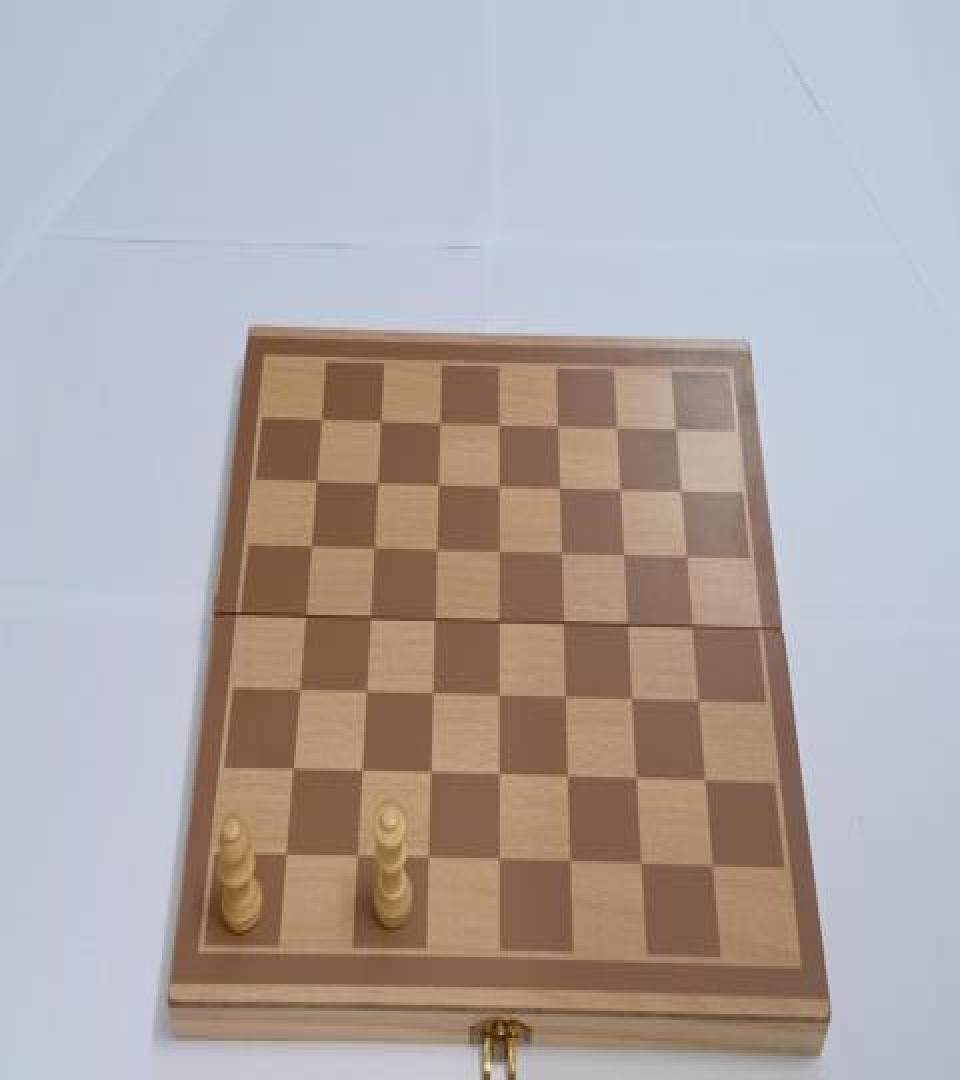xcorner: (308, 472, 326, 500), (372, 412, 390, 440), (352, 760, 370, 788), (550, 478, 568, 506), (313, 411, 331, 438), (302, 537, 320, 564), (296, 606, 314, 633), (283, 759, 301, 786), (276, 843, 294, 870), (368, 474, 386, 501), (365, 538, 383, 565), (357, 683, 375, 710), (347, 844, 365, 871), (431, 414, 449, 441), (427, 540, 445, 567), (425, 610, 443, 637), (423, 684, 441, 711), (421, 762, 439, 789), (418, 846, 436, 873), (489, 415, 507, 442), (489, 477, 507, 504), (489, 543, 507, 570), (489, 612, 507, 639), (489, 849, 507, 876), (548, 417, 566, 444), (552, 545, 570, 572), (556, 687, 574, 714), (558, 766, 576, 793), (560, 851, 578, 878), (606, 420, 624, 447), (610, 480, 628, 507), (614, 546, 632, 573), (618, 615, 636, 642), (622, 689, 640, 716), (626, 768, 644, 795), (631, 852, 649, 879), (670, 481, 688, 508), (682, 617, 700, 644), (688, 690, 706, 717), (290, 680, 308, 706), (361, 608, 379, 634), (429, 476, 447, 502), (489, 686, 507, 712), (489, 764, 507, 790), (554, 614, 572, 640), (665, 422, 683, 448), (676, 548, 694, 574), (695, 770, 713, 796), (702, 854, 720, 880)
